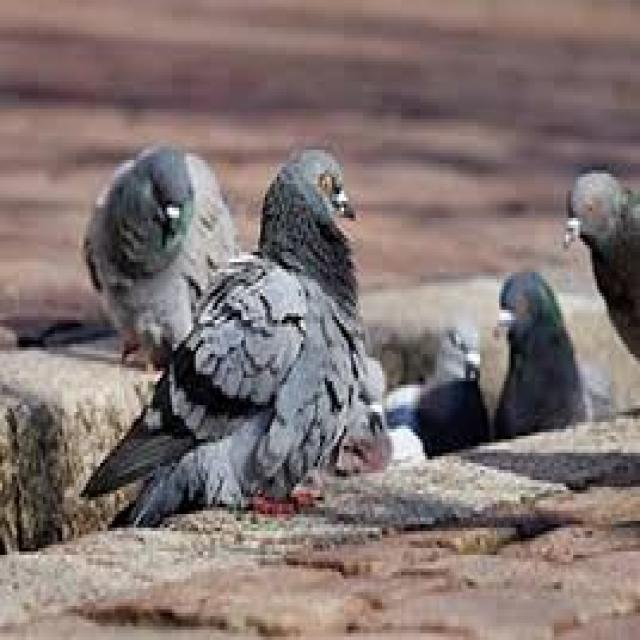pigeon: (81, 121, 385, 544)
